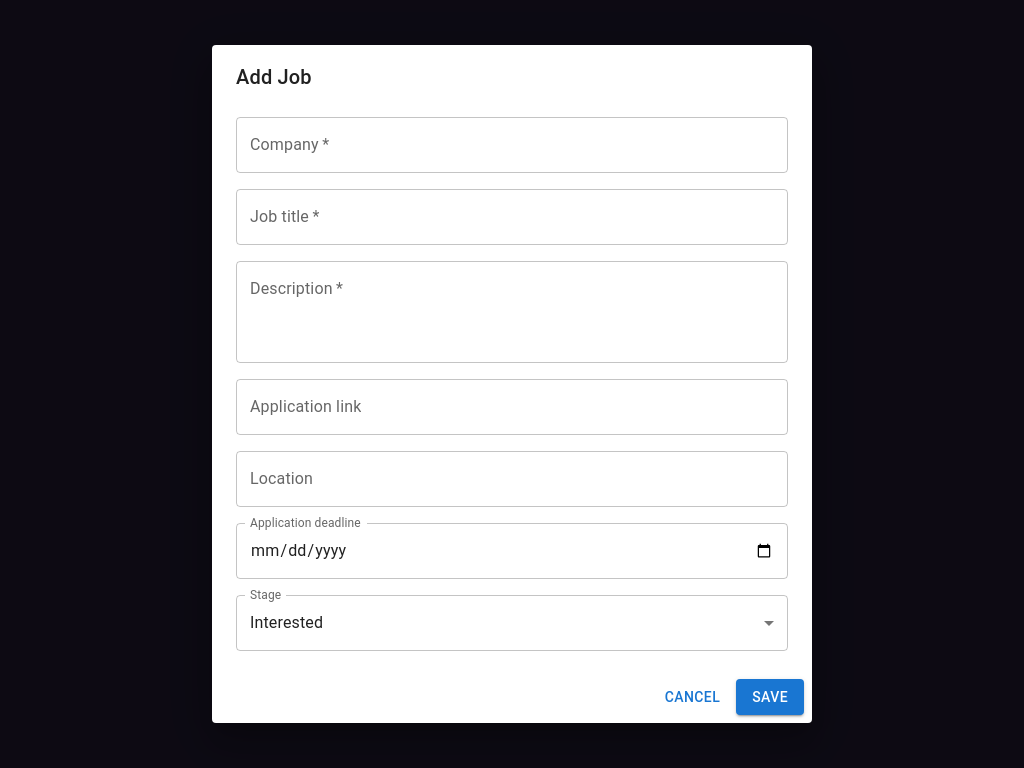
it: JobFormDialog › blocks save and shows an error when required fields are missing
The width and height of the screenshot is (1024, 768).
Click the button "Save". click: (770, 697)
box: [736,679,804,715]
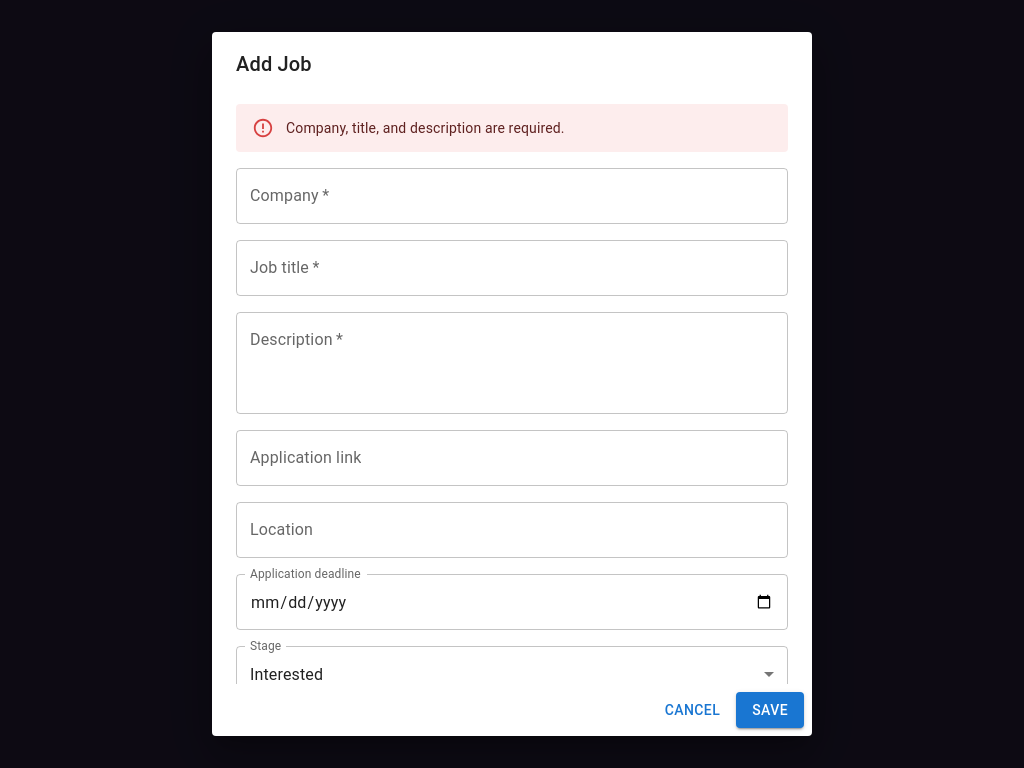
Now the text "Company, title, and description are required." is shown, box [286,120,565,136]
